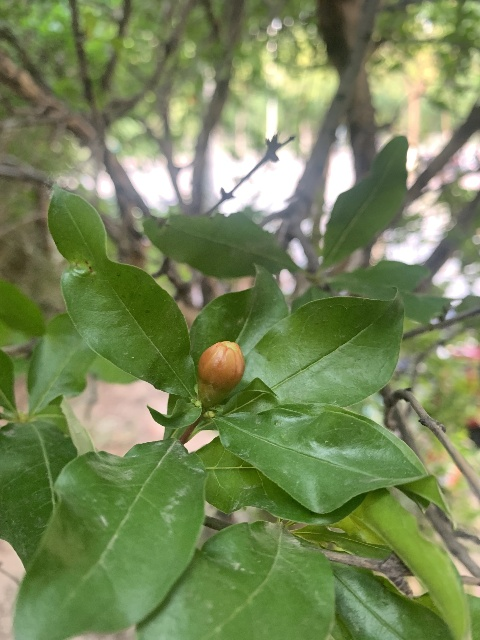bud: (197, 340, 244, 406)
